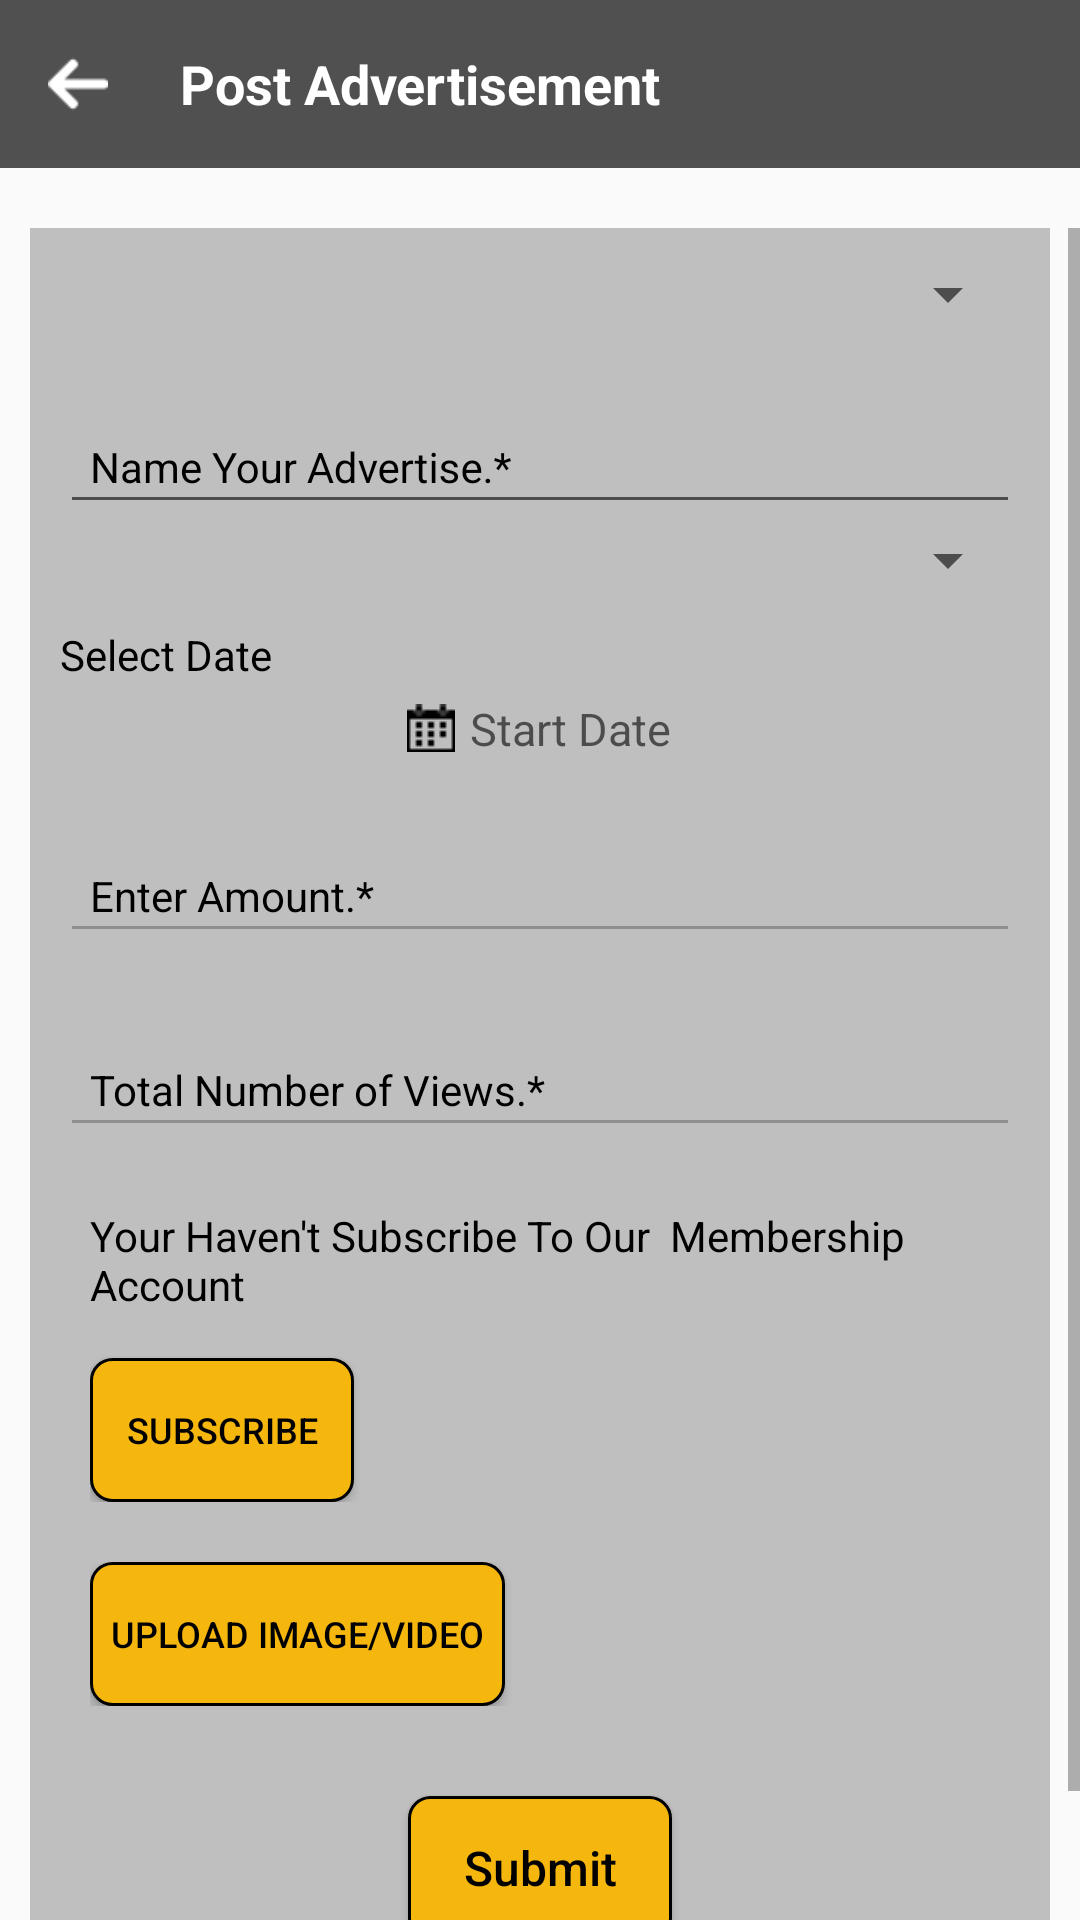

Screen size 1080 × 1920. Icon name, then its box in pixels as (x1, y1, x2, y2):
back: (48, 59, 108, 109)
